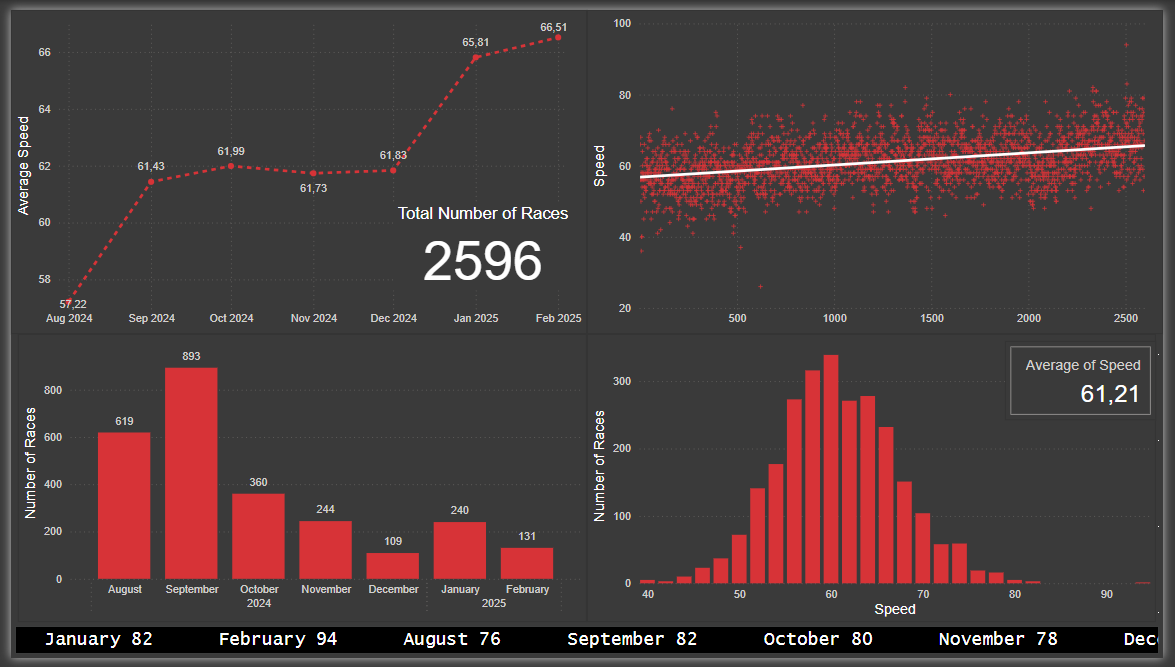

The dashboard page shown, as its layout file describes it:
{"tool":"powerbi","page":{"name":"Page 1","canvas":[1280,720],"ordinal":0},"visuals":[{"type":"clusteredColumnChart","title":"Number of Races per Month","fields":{"Category":["RaceLogs.Date.Variation.Date Hierarchy.Year","RaceLogs.Date.Variation.Date Hierarchy.Month"],"Y":["CountNonNull(RaceLogs.Placed)"]},"box":[8,360,632,320],"z":0},{"type":"scatterChart","fields":{"Y":["RaceLogs.Speed"],"X":["RaceLogs.Index"]},"box":[640,0,640,360],"z":1000},{"type":"clusteredColumnChart","fields":{"Y":["CountNonNull(RaceLogs.Index)"],"Category":["RaceLogs.Speed (bins)"]},"box":[640,360,632,320],"z":2000},{"type":"lineChart","title":"Average Speed per Month","fields":{"Y":["Avg(RaceLogs.Speed)"],"Category":["RaceLogs.Date.Variation.Date Hierarchy.Year","RaceLogs.Date.Variation.Date Hierarchy.Month"]},"box":[0,0,640,360],"z":3000},{"type":"cardVisual","title":"Average Speed","fields":{"Data":["Avg(RaceLogs.Speed)"]},"box":[1104,368,168,88],"z":4000},{"type":"ScrollingTextVisual1448795304508","fields":{"Measure Absolute":["Max(RaceLogs.Speed)"],"Category":["RaceLogs.Date.Variation.Date Hierarchy.Month"]},"box":[0,680,1280,40],"z":5000},{"type":"card","title":"Total Number of Races","fields":{"Values":["Max(RaceLogs.Index)"]},"box":[424,216,200,96],"z":6000}]}

Visuals, with their boxes in screenshot pixels (x1, y1, x2, y2), scaled from the page's 1280x720 canvas onto the 1175x667 screenshot:
"Number of Races per Month" clusteredColumnChart: [x1=7, y1=334, x2=588, y2=630]
scatterChart - RaceLogs.Speed x RaceLogs.Index: [x1=588, y1=0, x2=1174, y2=334]
clusteredColumnChart - CountNonNull(RaceLogs.Index) x RaceLogs.Speed (bins): [x1=588, y1=334, x2=1168, y2=630]
"Average Speed per Month" lineChart: [x1=0, y1=0, x2=588, y2=334]
"Average Speed" cardVisual: [x1=1013, y1=341, x2=1168, y2=422]
ScrollingTextVisual1448795304508 - Max(RaceLogs.Speed) x RaceLogs.Date.Variation.Date Hierarchy.Month: [x1=0, y1=630, x2=1174, y2=666]
"Total Number of Races" card: [x1=389, y1=200, x2=573, y2=289]
